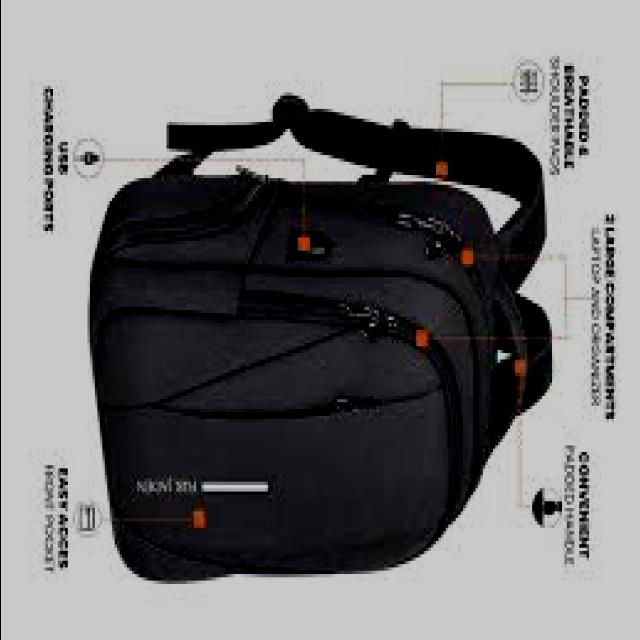backpack: (90, 93, 554, 585)
